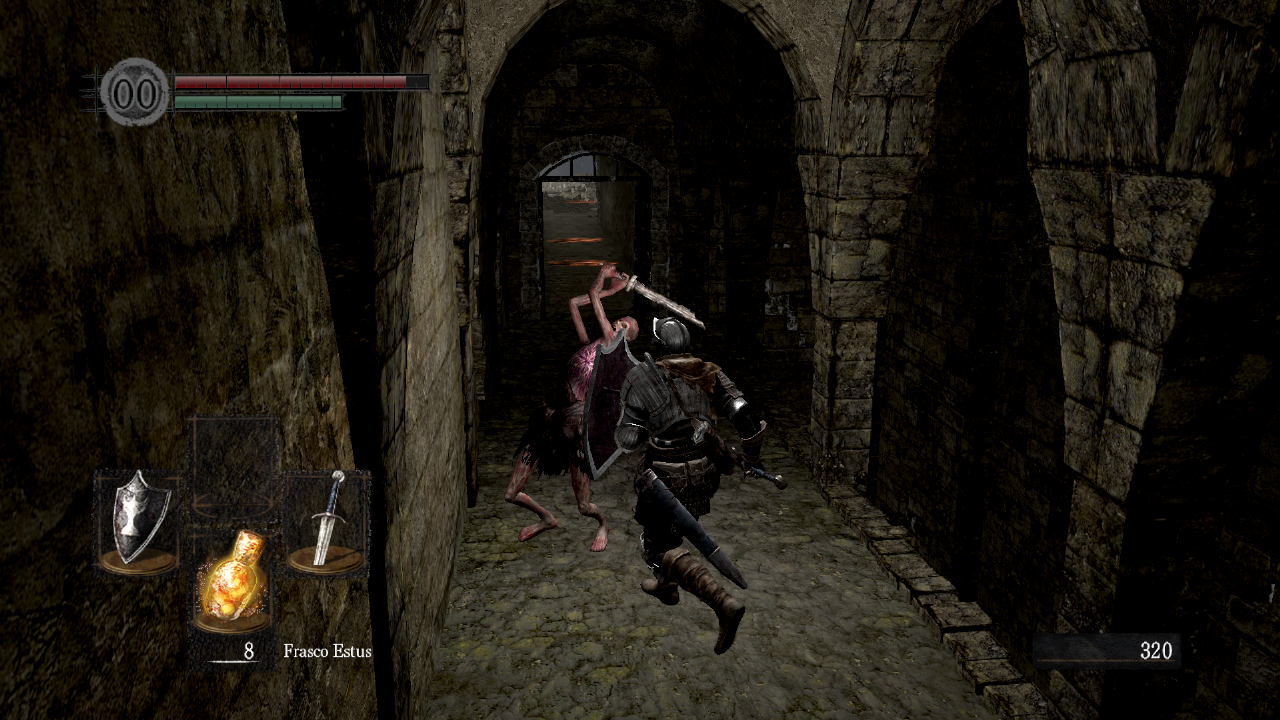hollow: (504, 261, 640, 551)
player: (582, 317, 787, 656)
